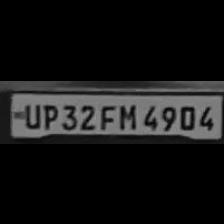0: (176, 101, 196, 128)
2: (76, 100, 96, 130)
3: (58, 99, 76, 130)
4: (139, 101, 159, 129), (197, 102, 215, 130)
9: (158, 102, 176, 130)
F: (97, 101, 115, 128)
M: (115, 101, 137, 129)
P: (39, 101, 57, 129)
U: (18, 99, 42, 127)
